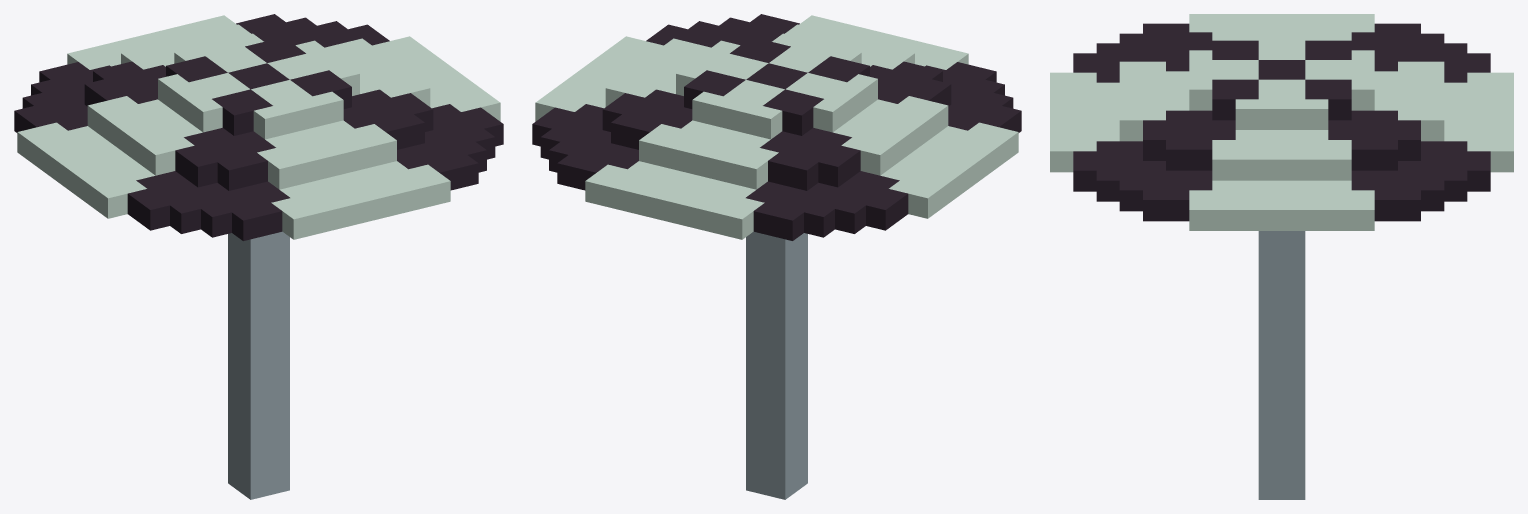
File: umbrella-2.obj
3 views of the same model, side by side, from view 1: azimuth 30°, elevation 25°; view 2: azimuth 150°, elevation 25°; view 3: azimuth 270°, elevation 25° (orthographic). The views are drawn at different scales.
Size of the model in its own units: 2 by 2 by 2.
1 material, 1 textured.
